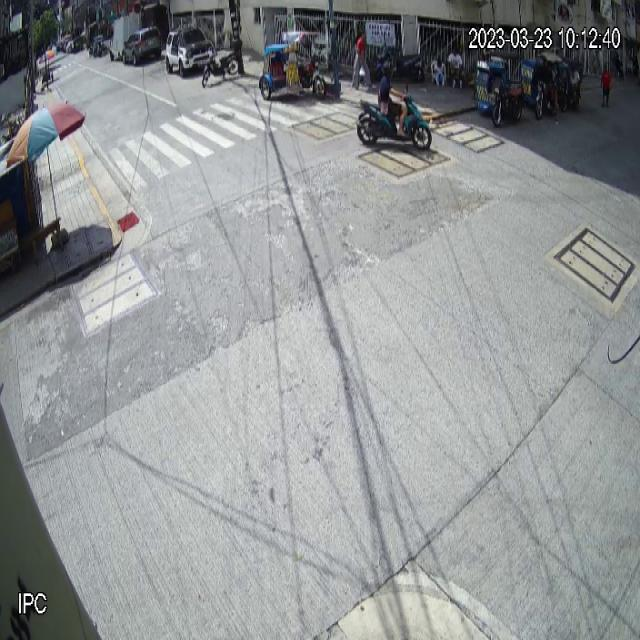Motorcycle: (355, 81, 433, 150)
Tricycle: (258, 30, 327, 101), (473, 51, 524, 126)
